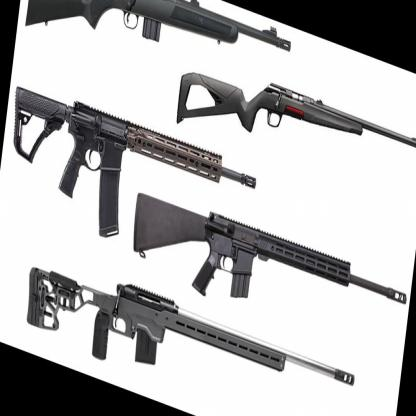rifle: (15, 236, 358, 416), (126, 180, 412, 367), (168, 44, 416, 210), (7, 75, 258, 229), (26, 0, 296, 86)
